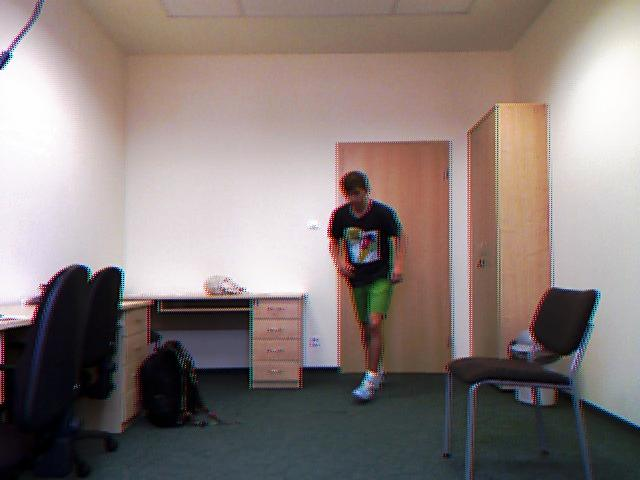walking: (319, 160, 421, 418)
